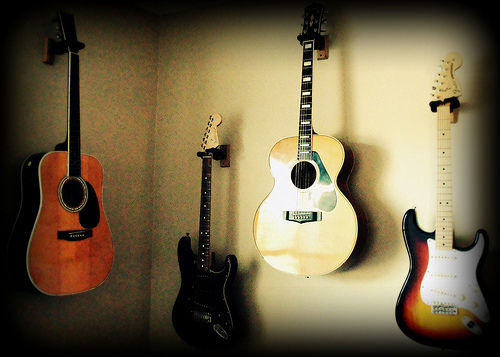guitar: (251, 5, 366, 277), (18, 14, 115, 297)
